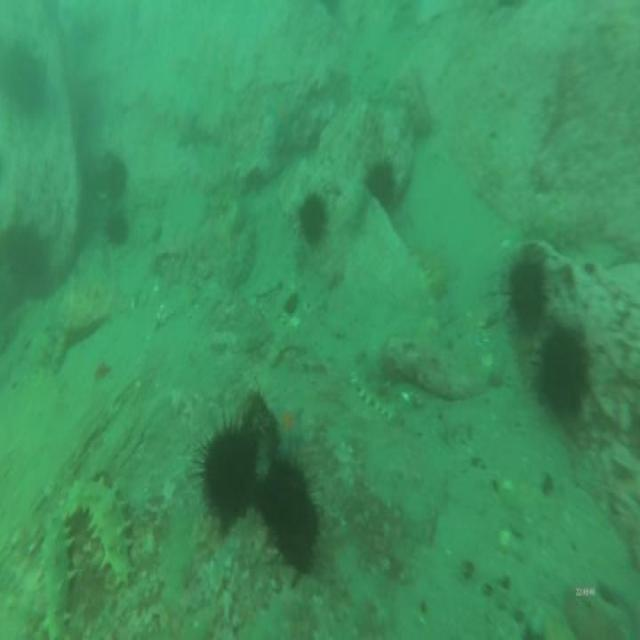echinus: (191, 414, 261, 533), (258, 449, 322, 577), (538, 313, 592, 425), (497, 242, 551, 336), (0, 36, 50, 114), (0, 217, 50, 278), (295, 186, 331, 256), (362, 156, 398, 212), (102, 153, 132, 210), (103, 206, 132, 250)
holothurian: (61, 474, 136, 594), (39, 505, 75, 640), (347, 359, 407, 428), (407, 238, 451, 304)
starfish: (271, 395, 308, 449)
